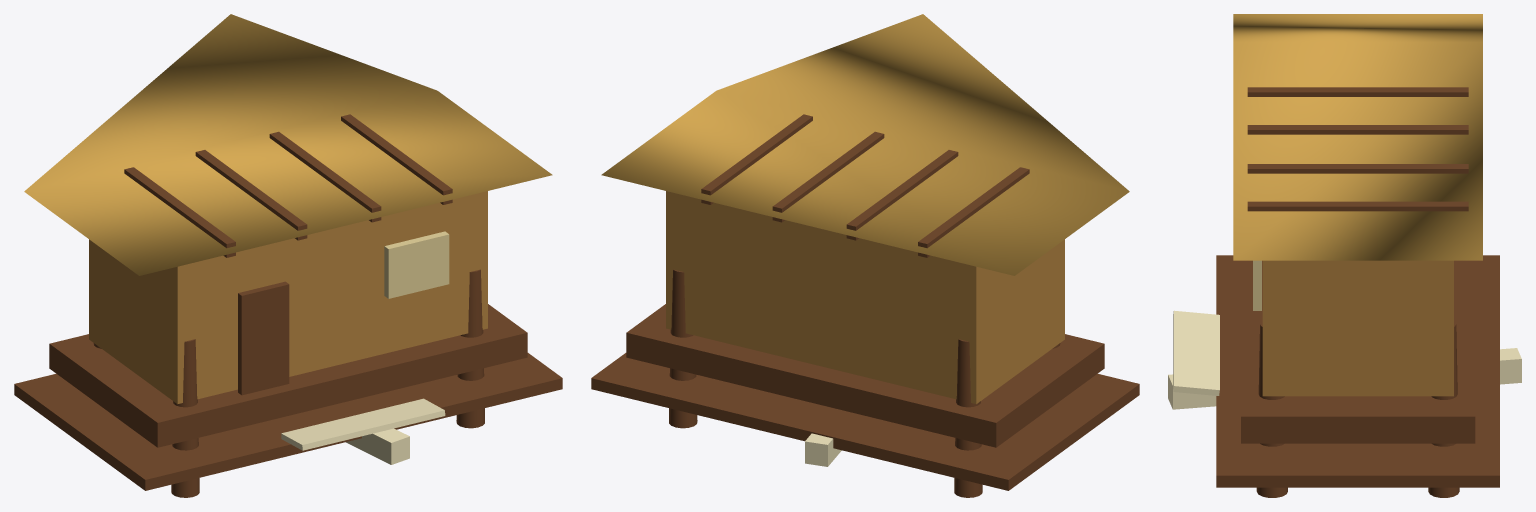
File: Nha-Bac-Nam-Dan-optimized.glb
3 views of the same model, side by side, from view 1: azimuth 30°, elevation 25°; view 2: azimuth 150°, elevation 25°; view 3: azimuth 270°, elevation 25° (orthographic). The views are drawn at different scales.
Size of the model in its own units: 3.16 by 2.69 by 2.14.
1 material, 1 textured.
